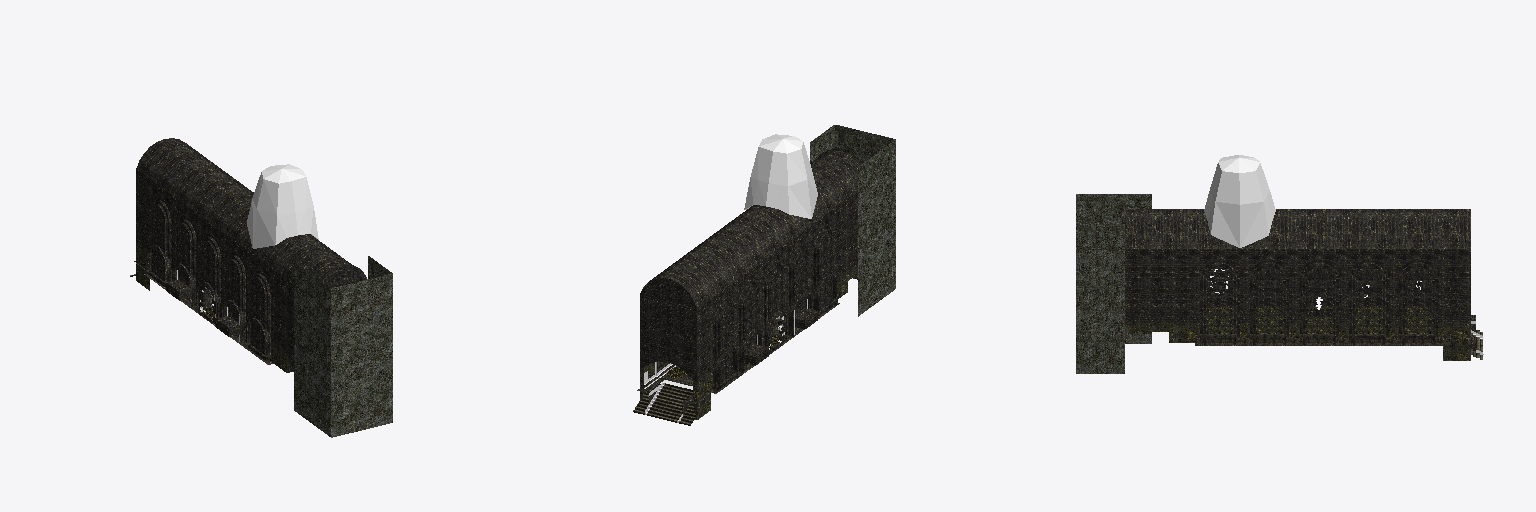
3 views of the same model, side by side, from view 1: azimuth 30°, elevation 25°; view 2: azimuth 150°, elevation 25°; view 3: azimuth 270°, elevation 25° (orthographic).
Parts seen in each view (by area): view 1: mesh3, mesh1, mesh4, mesh9; view 2: mesh3, mesh1, mesh4, mesh0, mesh9; view 3: mesh3, mesh1, mesh9, mesh4, mesh2.
Boxes of the visible parts, box(x1,y1,x2,y2) form: mesh3: box(134, 138, 366, 372); mesh1: box(294, 256, 392, 437); mesh4: box(247, 164, 318, 248); mesh9: box(136, 242, 293, 372); mesh3: box(637, 149, 862, 414); mesh1: box(810, 125, 895, 316); mesh4: box(744, 134, 817, 218); mesh0: box(633, 383, 695, 425); mesh9: box(640, 264, 857, 419); mesh3: box(1121, 209, 1475, 350); mesh1: box(1076, 194, 1151, 373); mesh9: box(1125, 307, 1470, 360); mesh4: box(1204, 155, 1275, 247); mesh2: box(1201, 338, 1436, 342).
Size of the model in its own units: 6.83 by 17.04 by 31.12.
Materials: 10 (6 with a texture image).